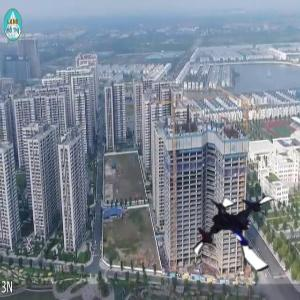drone: (191, 182, 295, 286)
